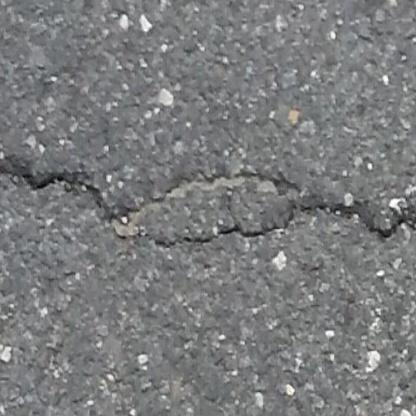Cracks: (105, 167, 416, 252), (0, 158, 104, 196)
